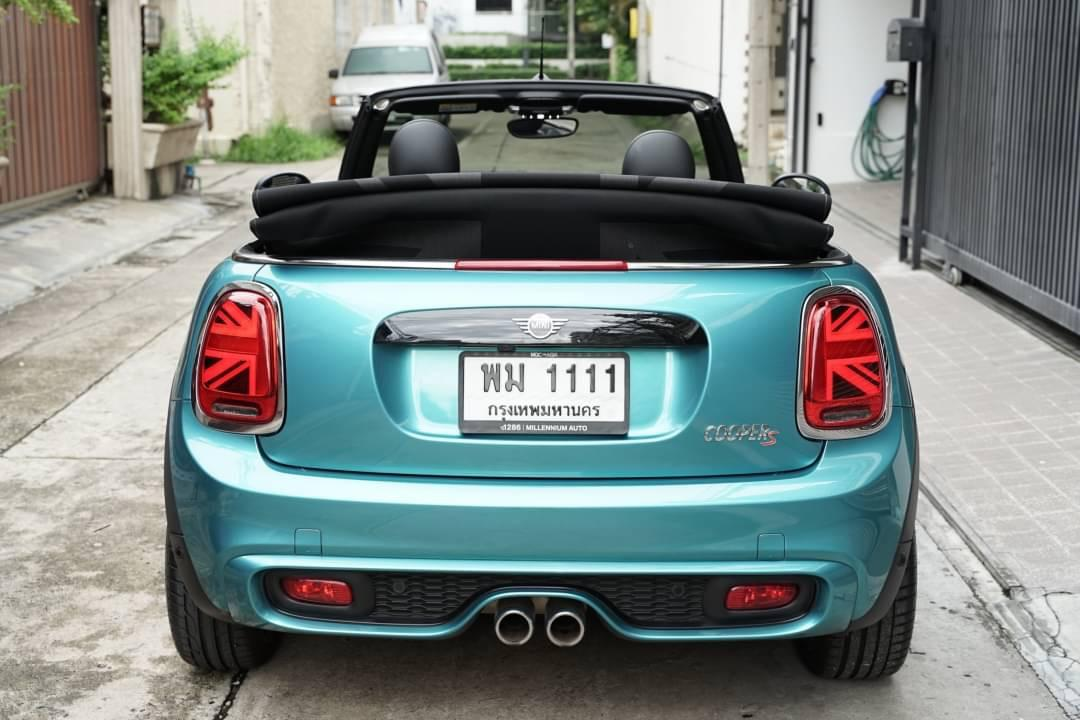license-plate: (455, 345, 633, 442)
